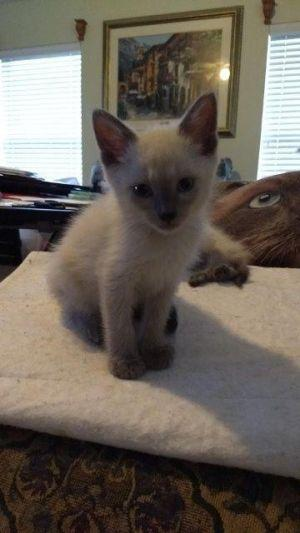siamese: (86, 91, 231, 249)
